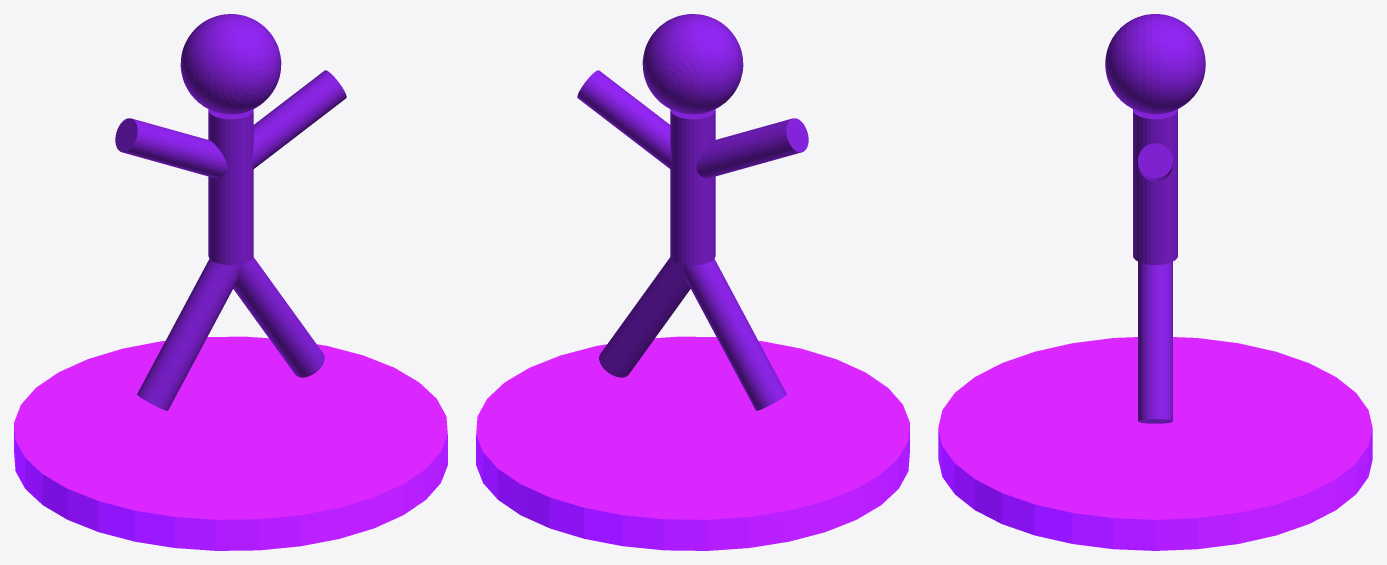
File: modelling_model_pose.dae
The picture shows the model from 3 angles, left to right: view 1: azimuth 30°, elevation 25°; view 2: azimuth 150°, elevation 25°; view 3: azimuth 270°, elevation 25°; orthographic projection.
Visible parts, largest first — view 1: 05_17_Popular_Modelling_Model_Pose_ROOT_base, 05_17_Popular_Modelling_Model_Pose_part_01, 05_17_Popular_Modelling_Model_Pose_part_02, 05_17_Popular_Modelling_Model_Pose_part_06, 05_17_Popular_Modelling_Model_Pose_part_05, 05_17_Popular_Modelling_Model_Pose_part_04, 05_17_Popular_Modelling_Model_Pose_part_03; view 2: 05_17_Popular_Modelling_Model_Pose_ROOT_base, 05_17_Popular_Modelling_Model_Pose_part_01, 05_17_Popular_Modelling_Model_Pose_part_02, 05_17_Popular_Modelling_Model_Pose_part_06, 05_17_Popular_Modelling_Model_Pose_part_05, 05_17_Popular_Modelling_Model_Pose_part_04, 05_17_Popular_Modelling_Model_Pose_part_03; view 3: 05_17_Popular_Modelling_Model_Pose_ROOT_base, 05_17_Popular_Modelling_Model_Pose_part_01, 05_17_Popular_Modelling_Model_Pose_part_02, 05_17_Popular_Modelling_Model_Pose_part_05, 05_17_Popular_Modelling_Model_Pose_part_03.
Boxes of the visible parts, bbox=[...] form: 05_17_Popular_Modelling_Model_Pose_ROOT_base: bbox=[14, 336, 447, 550]; 05_17_Popular_Modelling_Model_Pose_part_01: bbox=[180, 14, 281, 114]; 05_17_Popular_Modelling_Model_Pose_part_02: bbox=[208, 109, 253, 265]; 05_17_Popular_Modelling_Model_Pose_part_06: bbox=[137, 259, 239, 410]; 05_17_Popular_Modelling_Model_Pose_part_05: bbox=[233, 257, 324, 377]; 05_17_Popular_Modelling_Model_Pose_part_04: bbox=[115, 118, 227, 178]; 05_17_Popular_Modelling_Model_Pose_part_03: bbox=[252, 70, 346, 168]; 05_17_Popular_Modelling_Model_Pose_ROOT_base: bbox=[476, 336, 909, 550]; 05_17_Popular_Modelling_Model_Pose_part_01: bbox=[642, 14, 743, 114]; 05_17_Popular_Modelling_Model_Pose_part_02: bbox=[670, 109, 715, 265]; 05_17_Popular_Modelling_Model_Pose_part_06: bbox=[684, 259, 786, 410]; 05_17_Popular_Modelling_Model_Pose_part_05: bbox=[599, 257, 690, 377]; 05_17_Popular_Modelling_Model_Pose_part_04: bbox=[696, 118, 808, 178]; 05_17_Popular_Modelling_Model_Pose_part_03: bbox=[577, 70, 671, 168]; 05_17_Popular_Modelling_Model_Pose_ROOT_base: bbox=[938, 337, 1372, 550]; 05_17_Popular_Modelling_Model_Pose_part_01: bbox=[1105, 14, 1205, 114]; 05_17_Popular_Modelling_Model_Pose_part_02: bbox=[1133, 109, 1177, 264]; 05_17_Popular_Modelling_Model_Pose_part_05: bbox=[1138, 261, 1172, 423]; 05_17_Popular_Modelling_Model_Pose_part_03: bbox=[1138, 143, 1172, 181].
Size of the model in its own units: 0.76 by 0.85 by 0.76.
